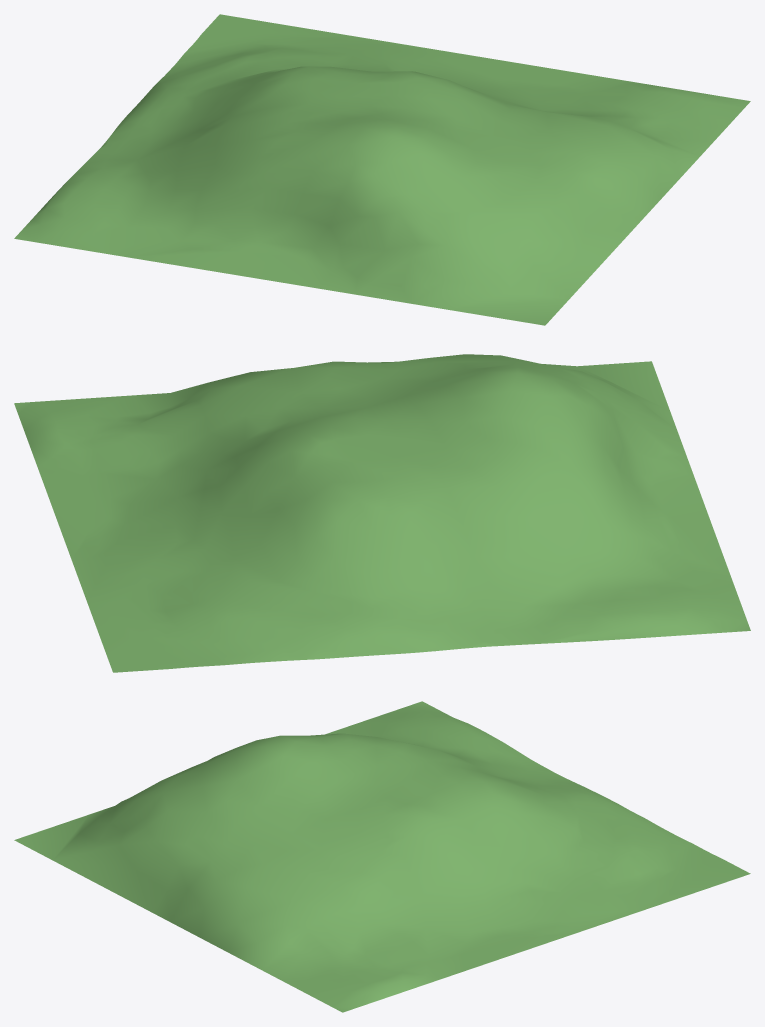
Rendered from SM_Hills_05.obj.
The picture shows the model from 3 angles, top to bottom: view 1: azimuth 30°, elevation 25°; view 2: azimuth 150°, elevation 25°; view 3: azimuth 270°, elevation 25°; orthographic projection. The views are drawn at different scales.
Visible parts, largest first — view 1: SM_Hills_05; view 2: SM_Hills_05; view 3: SM_Hills_05.
Part boxes in pixels (x1,y1,x2,y2): SM_Hills_05: (14,14,750,325); SM_Hills_05: (14,354,750,672); SM_Hills_05: (14,701,750,1012).
Bounding box in the file's own units: 37.5 × 4.81 × 37.5.
Materials: 1 (1 with a texture image).
